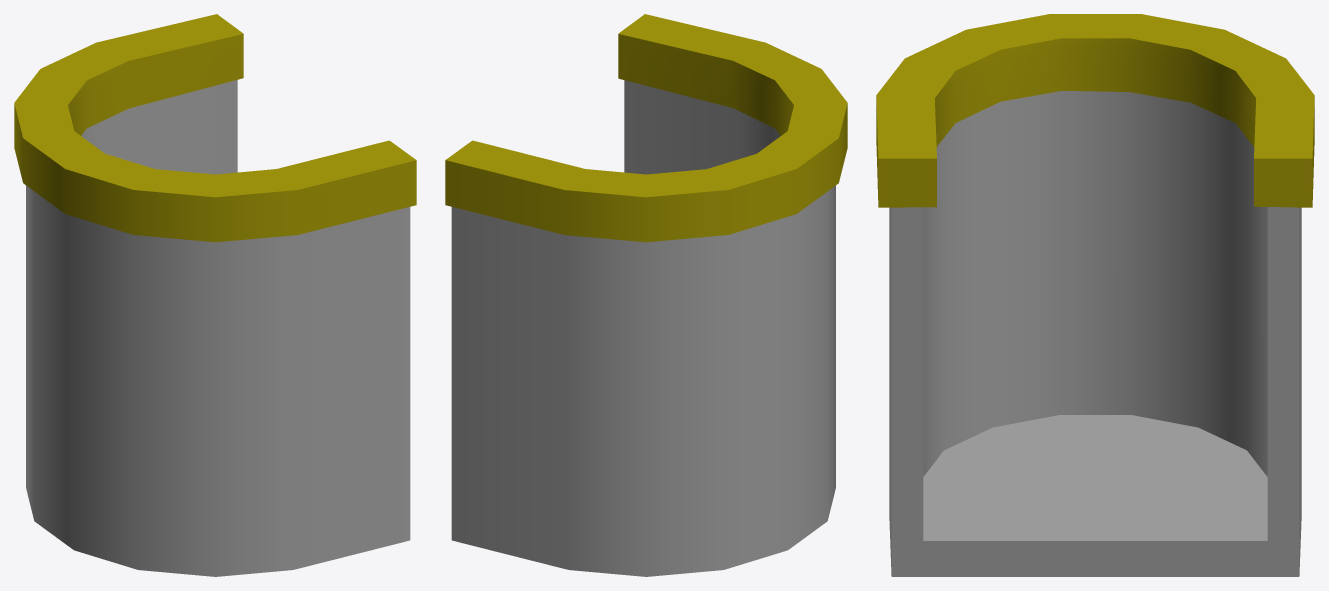
The model's file is buca tutta bordata.fbx.
The picture shows the model from 3 angles, left to right: view 1: azimuth 30°, elevation 25°; view 2: azimuth 150°, elevation 25°; view 3: azimuth 270°, elevation 25°; orthographic projection. The views are drawn at different scales.
Visible parts, largest first — view 1: pCylinder4; view 2: pCylinder4; view 3: pCylinder4.
Boxes of the visible parts, box(x1,y1,x2,y2) form: pCylinder4: box(14, 14, 416, 576); pCylinder4: box(445, 14, 847, 576); pCylinder4: box(876, 14, 1314, 576).
Bounding box in the file's own units: 5.28 × 7.11 × 6.75.
